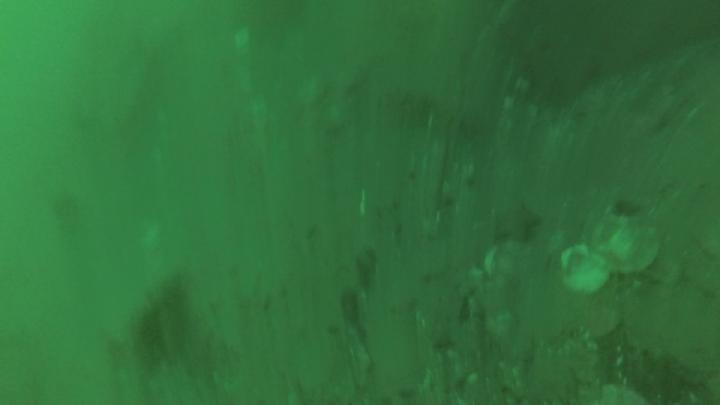scallop: (583, 197, 663, 275), (560, 242, 609, 299)
